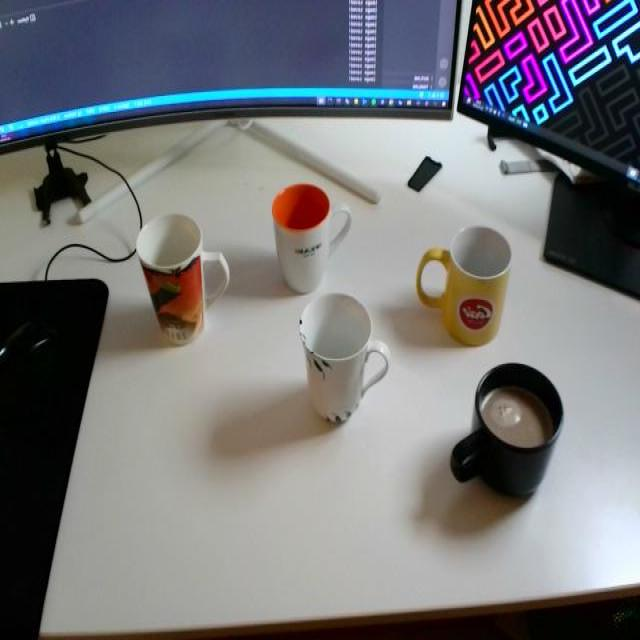cup: (448, 347, 576, 513), (412, 212, 522, 366), (288, 285, 398, 433), (130, 200, 235, 350), (255, 176, 359, 302)
